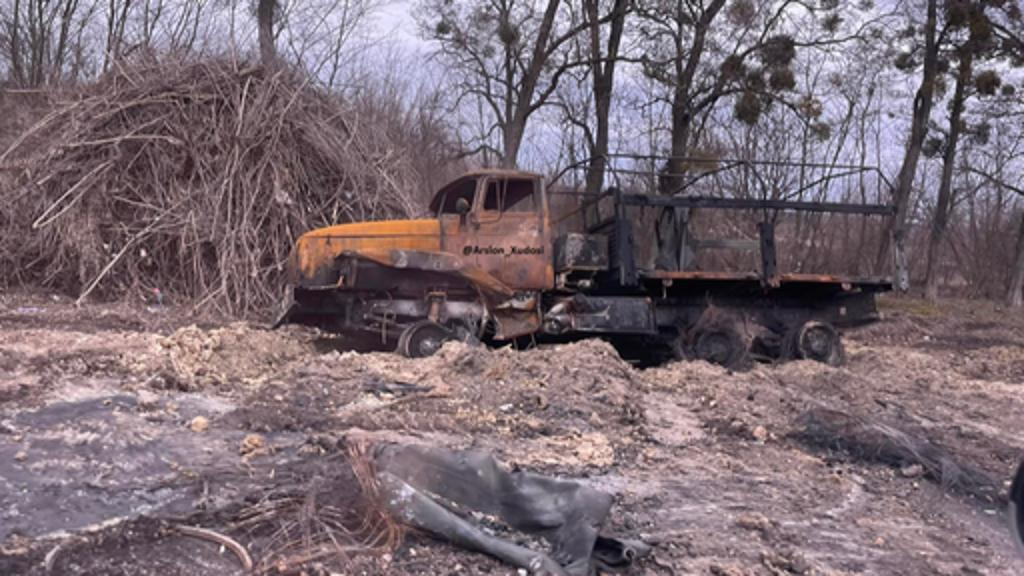TRUCK: (268, 142, 904, 392)
